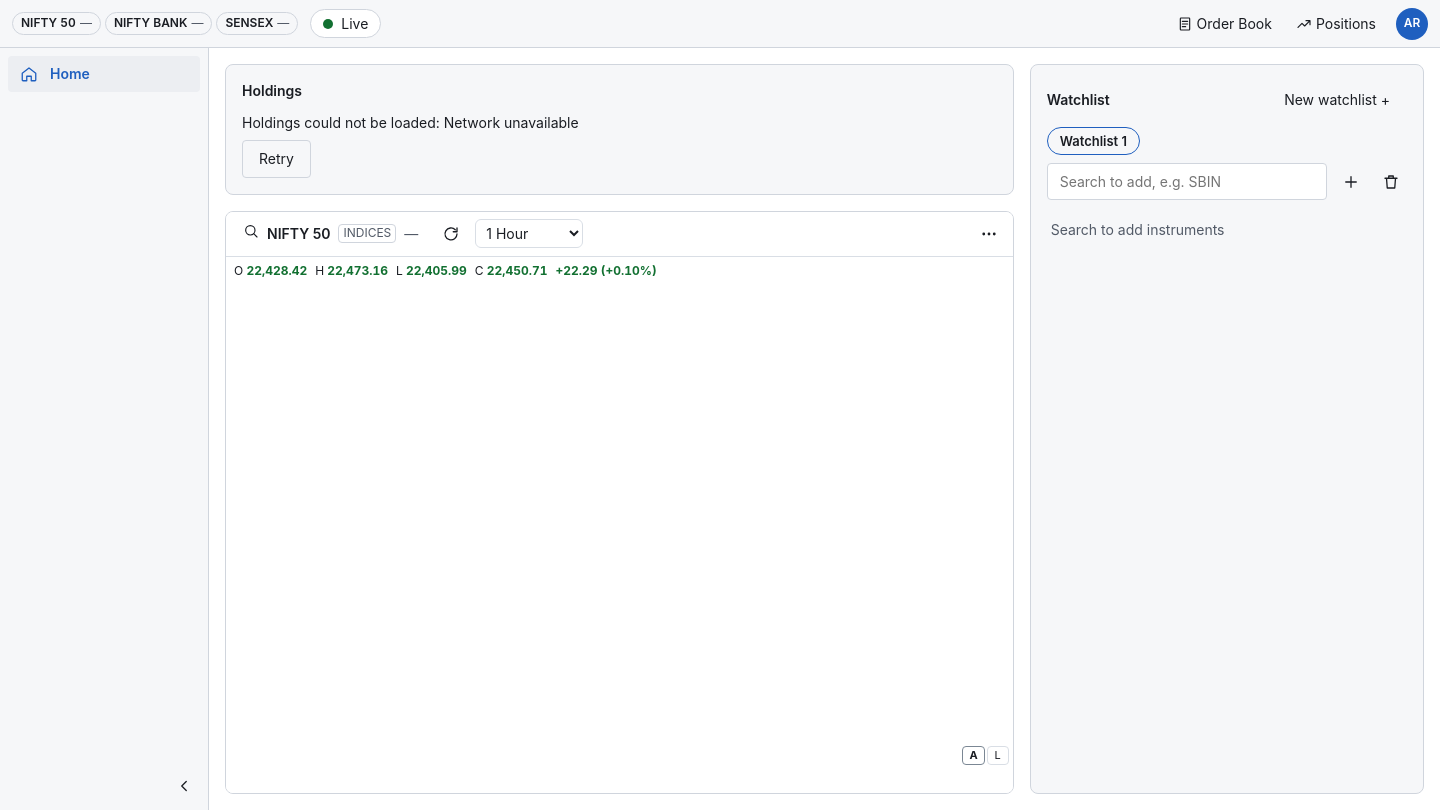
Scenario: FR-HOME-001 dashboard layout › AC2: a failed holdings request shows an error only in the card; the other areas still render
Expected: the message shows "Network unavailable", [242,114,579,131]
Expected: the element named "Main chart" is shown, [225,211,1014,794]
Click the button "Retry". click: (276, 159)
box: [242,140,311,178]
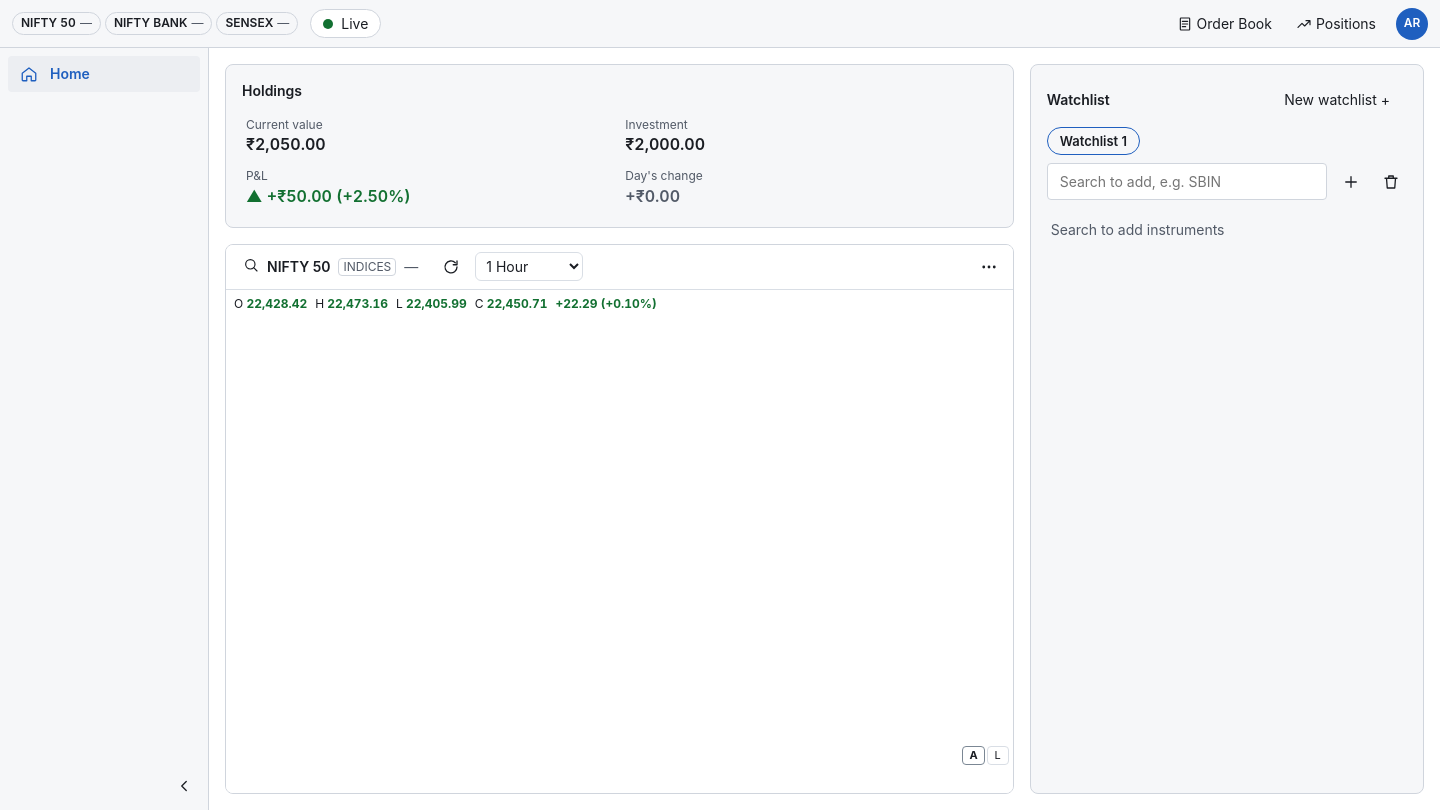
Expected: the text "₹2,050.00" is shown, [246,134,326,154]
